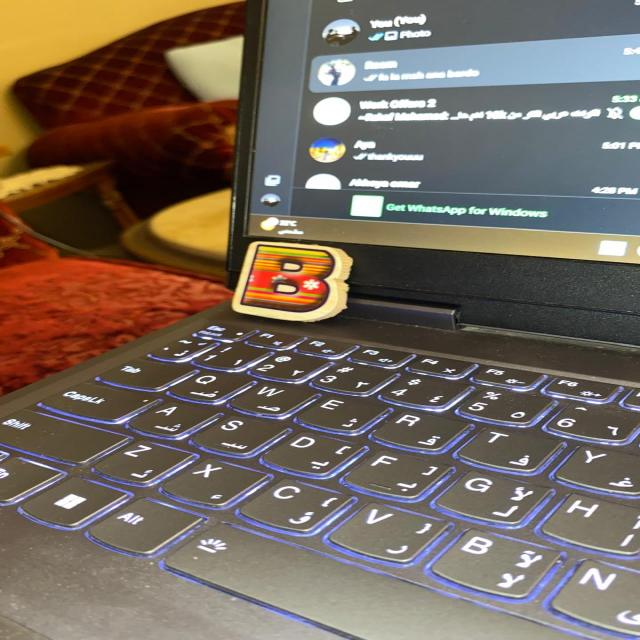B: (233, 241, 352, 321)
